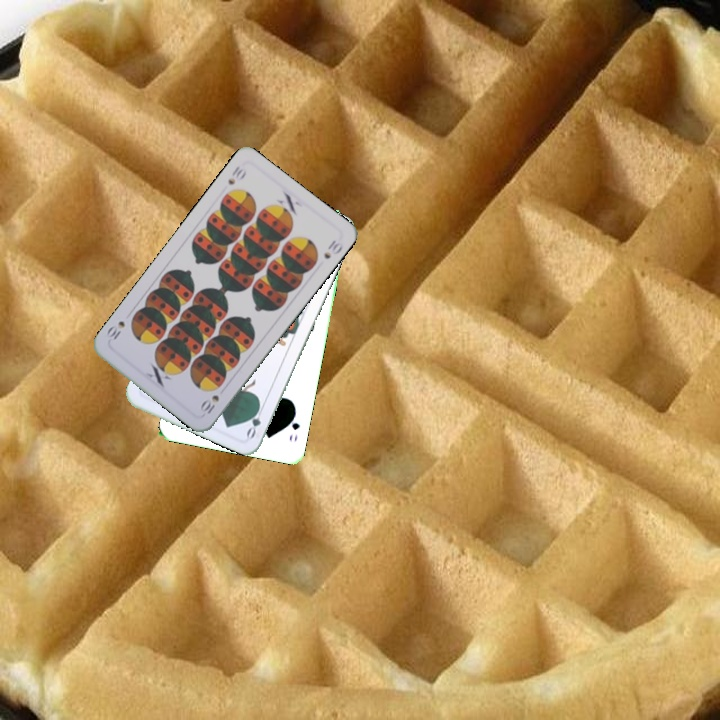GO: (242, 400, 266, 441), (285, 407, 303, 445)
S10: (196, 391, 222, 417), (224, 162, 249, 188)
